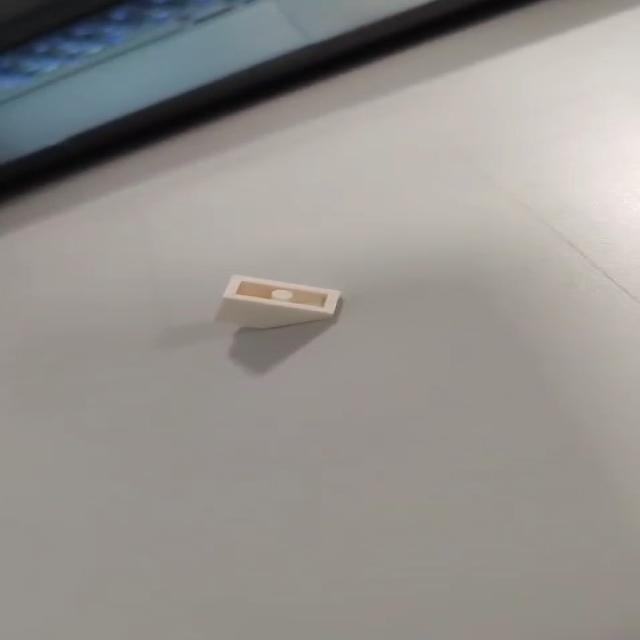P1x2x1: (212, 272, 344, 330)
